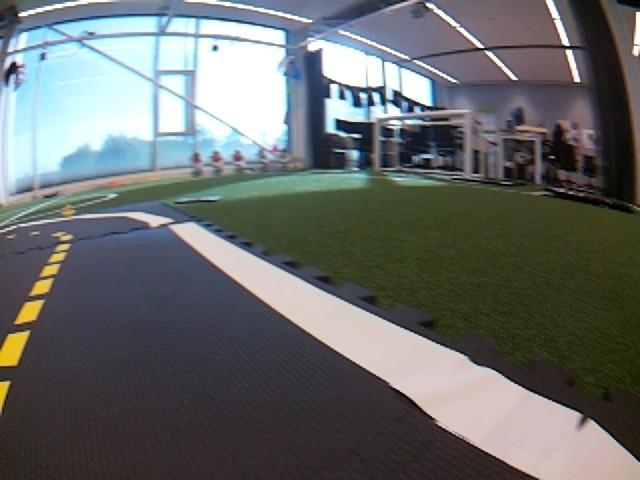Duckies: (62, 204, 75, 217)
